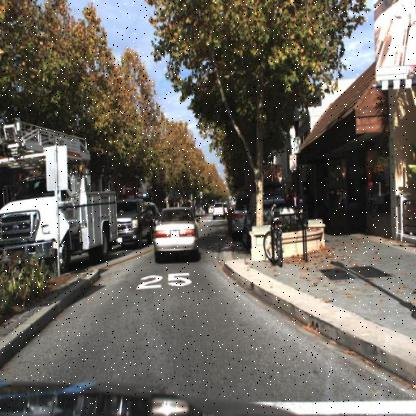car: (147, 201, 205, 265), (241, 188, 298, 250), (153, 203, 200, 263), (114, 196, 154, 246), (114, 198, 152, 247), (231, 191, 244, 241), (211, 196, 227, 222), (211, 199, 226, 224)
truck: (0, 122, 118, 273)
